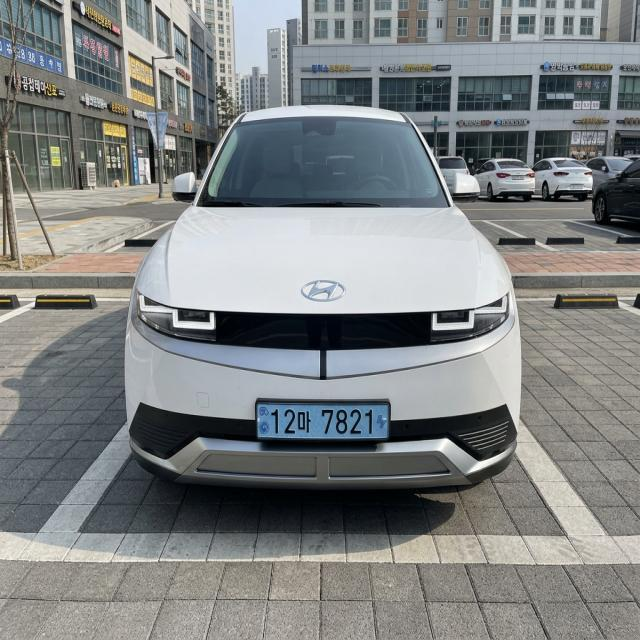car: (245, 390, 404, 452)
carev: (374, 403, 392, 442), (255, 400, 271, 440)
